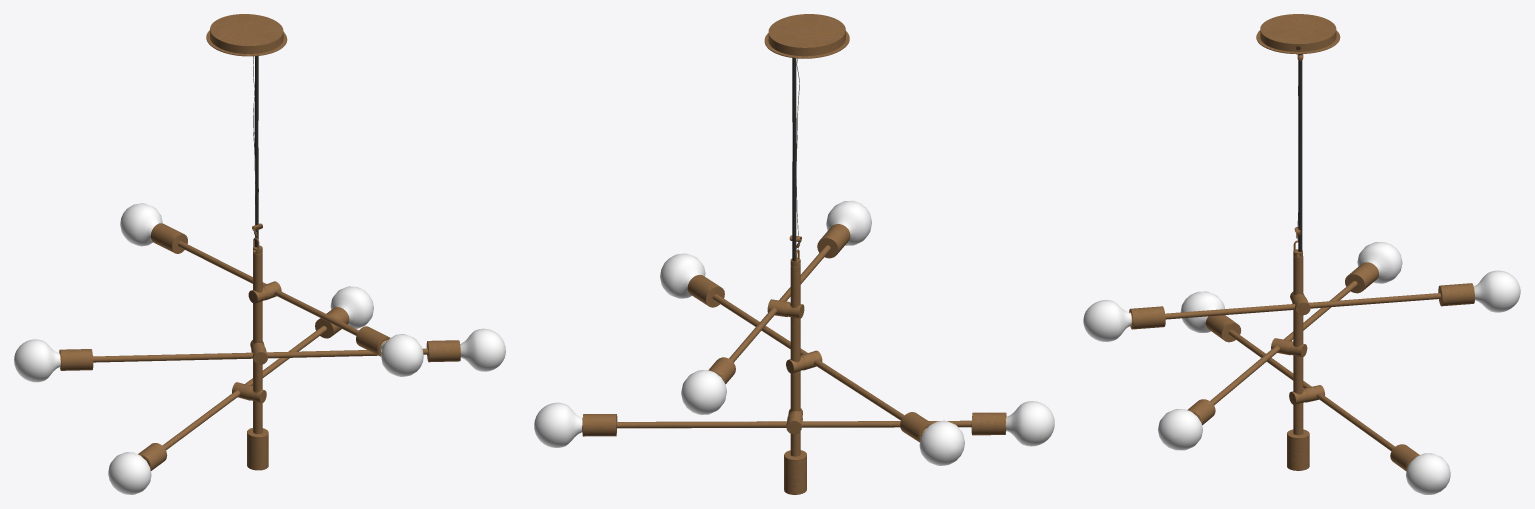
Rendered from abo-B07B4SC6SS.glb.
The picture shows the model from 3 angles, left to right: view 1: azimuth 30°, elevation 25°; view 2: azimuth 150°, elevation 25°; view 3: azimuth 270°, elevation 25°; orthographic projection. The views are drawn at different scales.
Size of the model in its own units: 0.682 by 0.744 by 0.682.
Materials: 1 (1 with a texture image).
